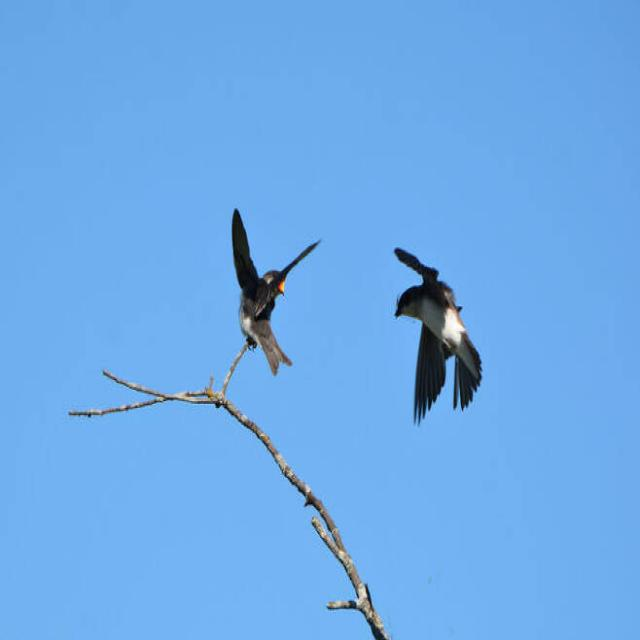bird: (388, 242, 492, 423), (222, 214, 326, 386)
